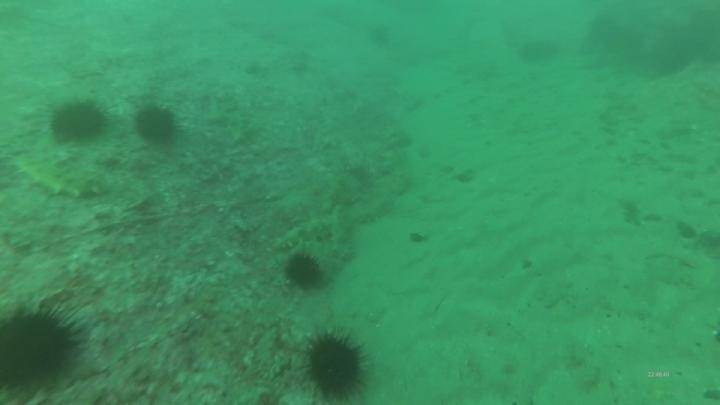echinus: (1, 299, 85, 395), (299, 327, 373, 402), (47, 96, 110, 146), (132, 101, 180, 147), (282, 249, 327, 293), (516, 35, 560, 67), (365, 21, 395, 50)
holothurian: (9, 152, 114, 199), (269, 208, 342, 253)
